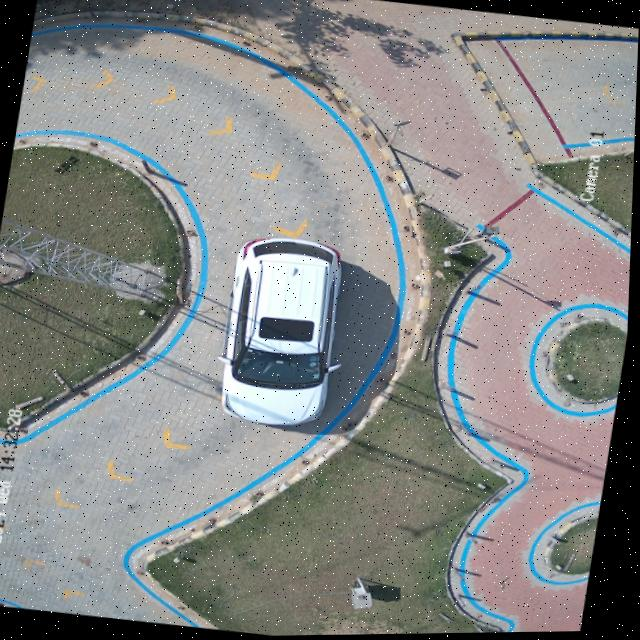car: (221, 237, 343, 425)
